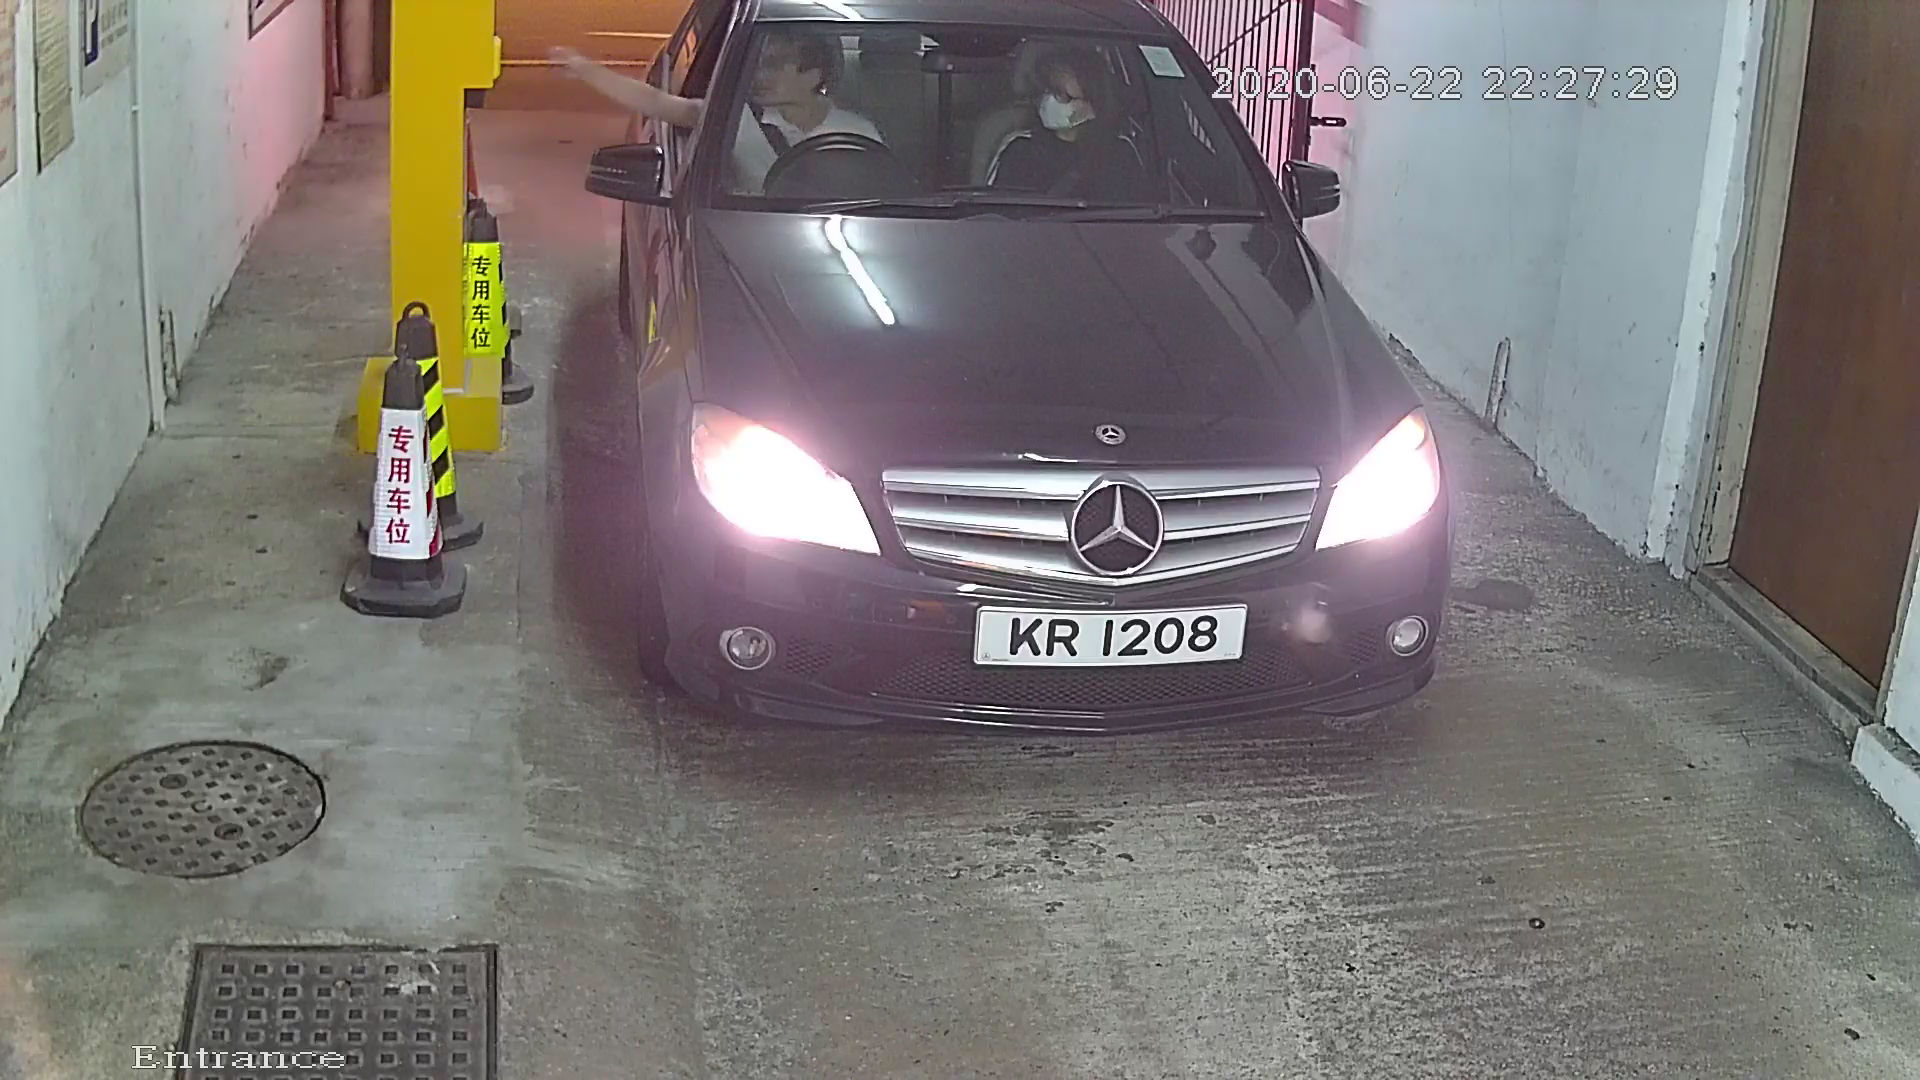privatecar: (572, 3, 1502, 766)
